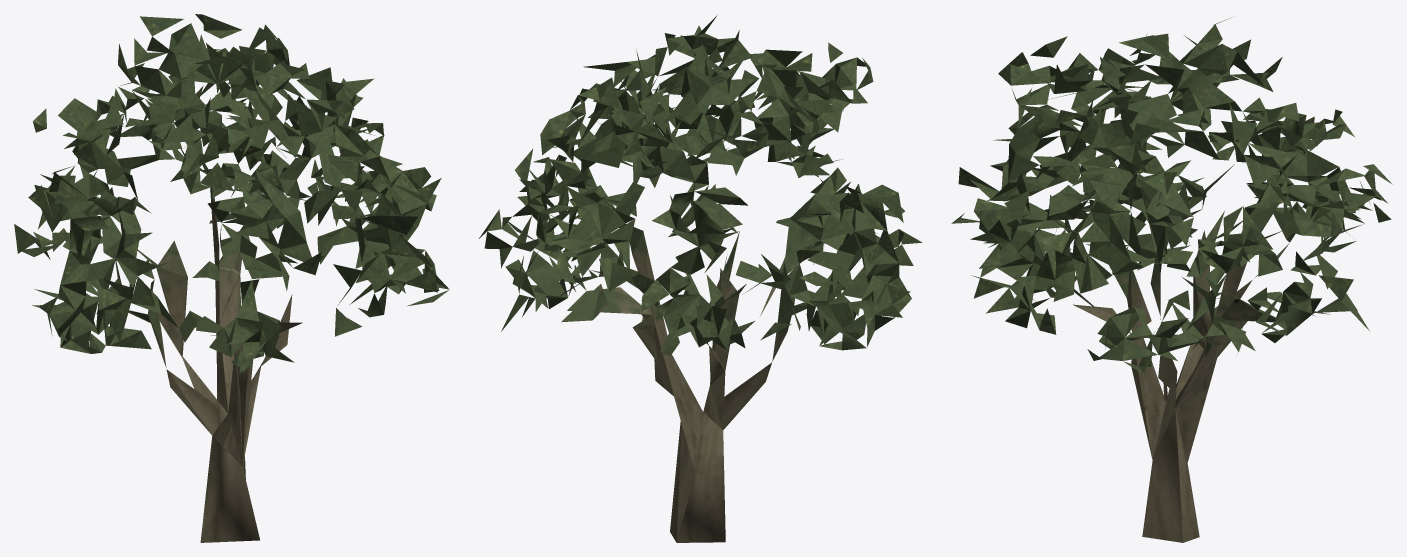
File: 01_Osmanthus_Tree.fbx
3 renders of one model, left to right at view 1: azimuth 30°, elevation 25°; view 2: azimuth 150°, elevation 25°; view 3: azimuth 270°, elevation 25°, orthographic. The views are drawn at different scales.
Visible parts, largest first — view 1: 01_Osmanthus_Tree; view 2: 01_Osmanthus_Tree; view 3: 01_Osmanthus_Tree.
Boxes of the visible parts, bbox=[...] form: 01_Osmanthus_Tree: bbox=[14, 14, 449, 542]; 01_Osmanthus_Tree: bbox=[479, 15, 921, 542]; 01_Osmanthus_Tree: bbox=[951, 17, 1392, 542].
Bounding box in the file's own units: 3.4 × 4.2 × 3.4.
